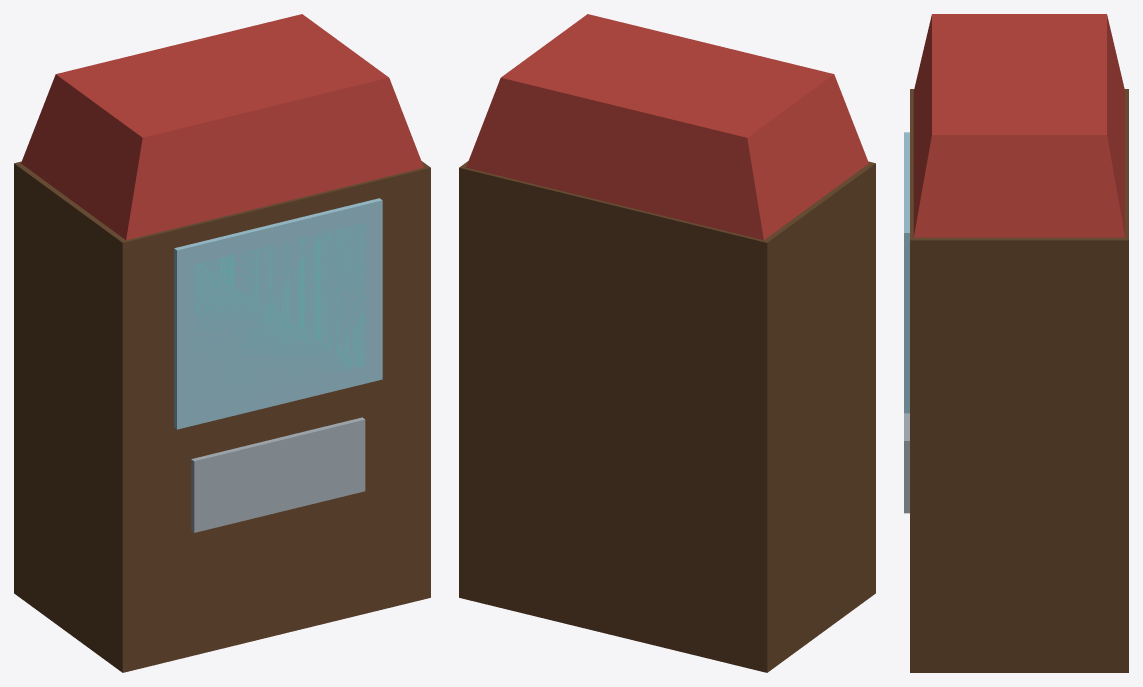
Rendered from GH_Jukebox_01.glb.
3 renders of one model, left to right at view 1: azimuth 30°, elevation 25°; view 2: azimuth 150°, elevation 25°; view 3: azimuth 270°, elevation 25°, orthographic.
Parts seen in each view (by area): view 1: GH_Jukebox_01; view 2: GH_Jukebox_01; view 3: GH_Jukebox_01.
Part boxes in pixels (x1,y1,x2,y2): GH_Jukebox_01: (14, 14, 430, 672); GH_Jukebox_01: (459, 14, 875, 672); GH_Jukebox_01: (904, 14, 1128, 672).
Bounding box in the file's own units: 0.9 × 1.45 × 0.565.
1 material, 1 textured.
